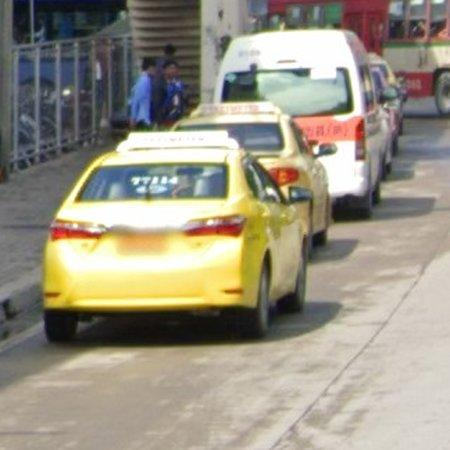taxis: (43, 131, 306, 342), (173, 102, 332, 243)
